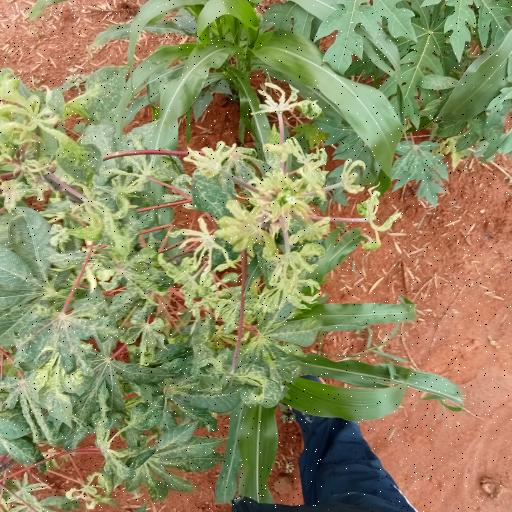Cassava_Mosaic: (60, 350, 163, 431), (3, 208, 54, 345), (2, 308, 96, 374), (119, 432, 213, 494), (252, 307, 312, 390)
